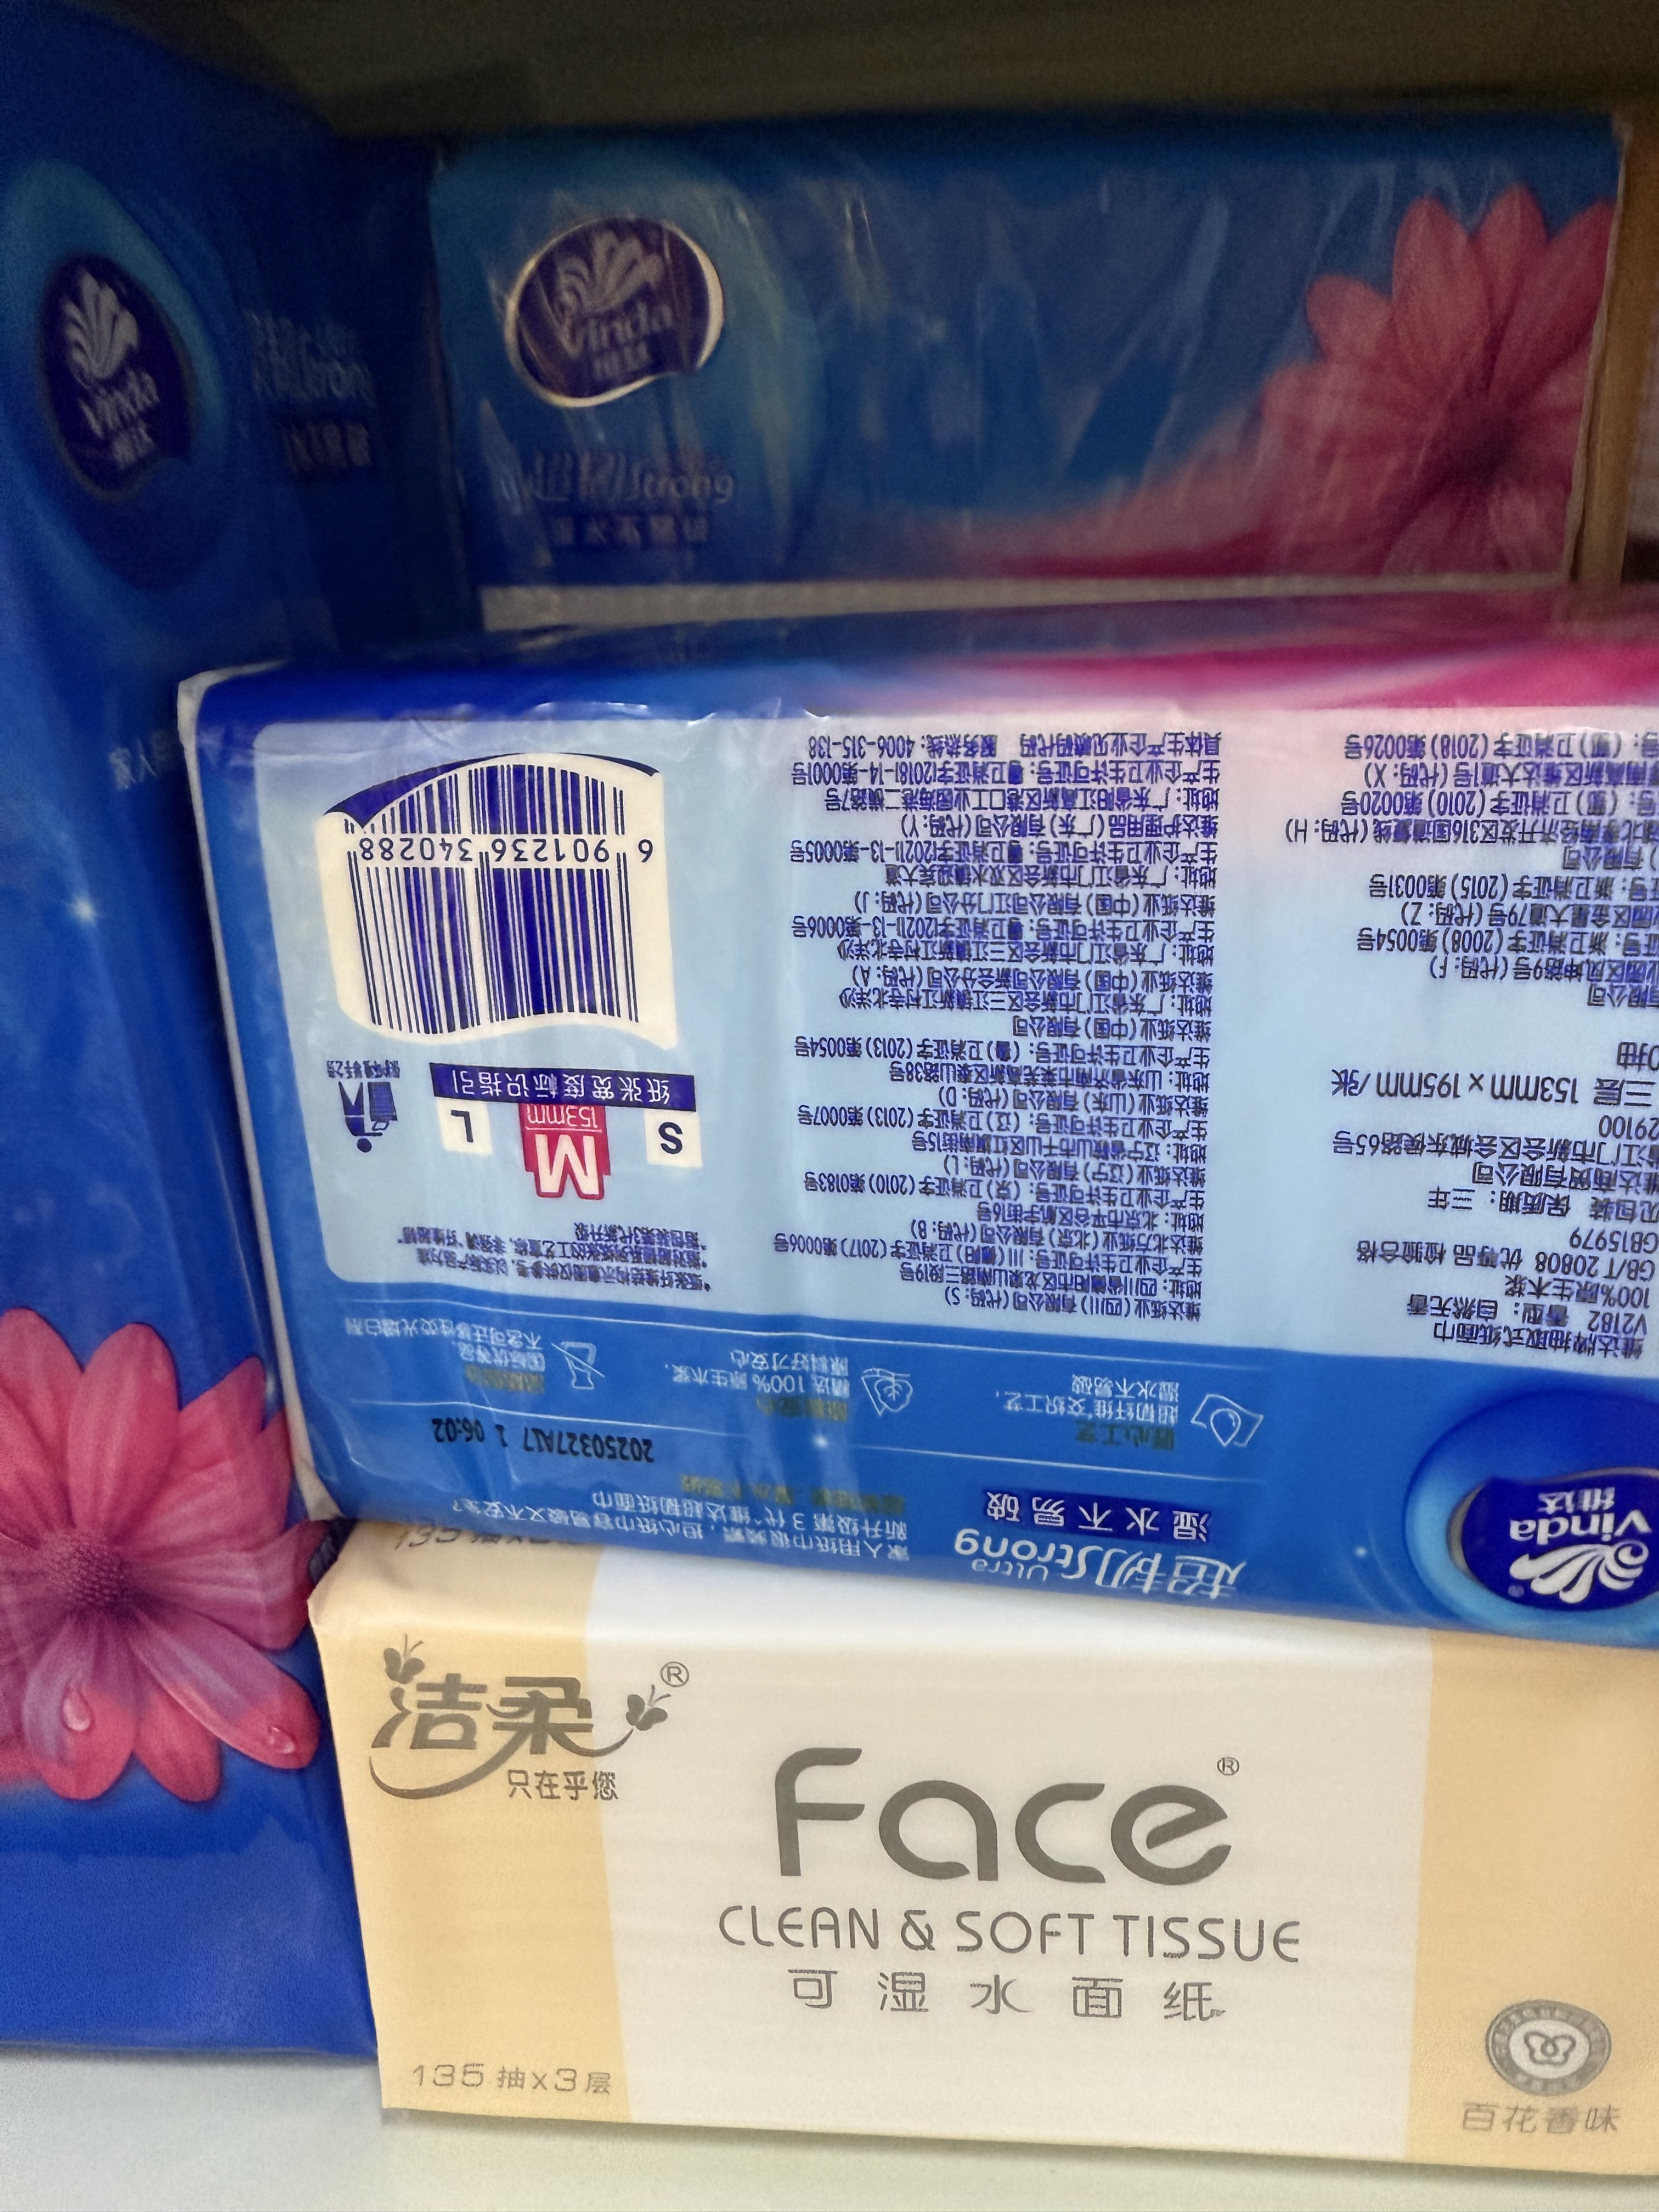bar: (333, 840, 647, 1033)
